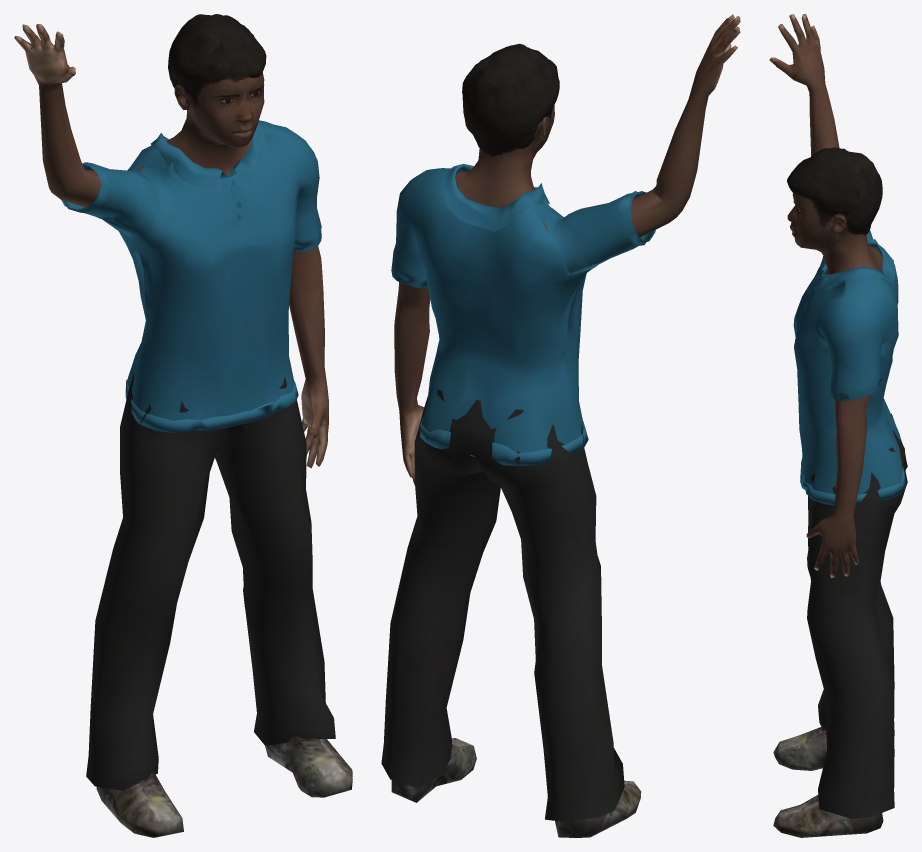
Rendered from mq-attendant.glb.
3 views of the same model, side by side, from view 1: azimuth 30°, elevation 25°; view 2: azimuth 150°, elevation 25°; view 3: azimuth 270°, elevation 25° (orthographic). The views are drawn at different scales.
Parts seen in each view (by area): view 1: MQ_attendant; view 2: MQ_attendant; view 3: MQ_attendant.
Part boxes in pixels (x1,y1,x2,y2): MQ_attendant: (14,14,352,837); MQ_attendant: (381,14,740,837); MQ_attendant: (769,14,907,837).
Bounding box in the file's own units: 0.6963 × 1.68 × 0.3008.
Materials: 1 (1 with a texture image).
